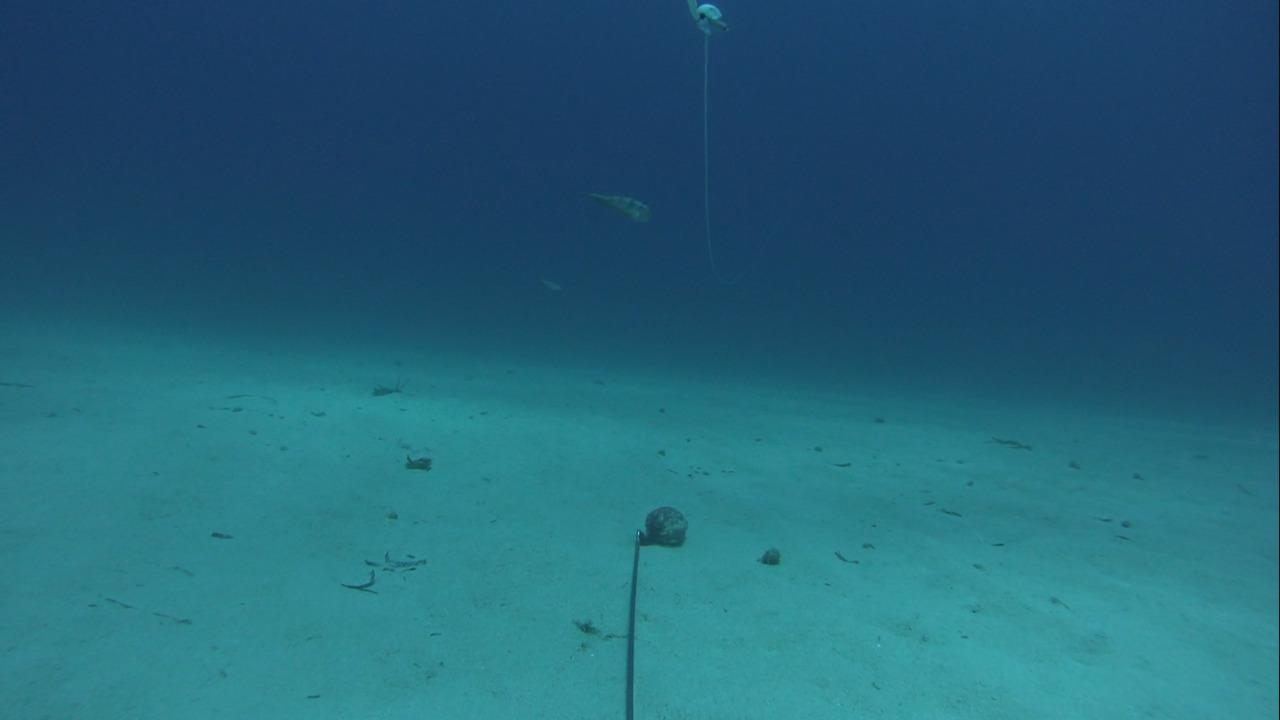raor: (581, 184, 652, 227)
